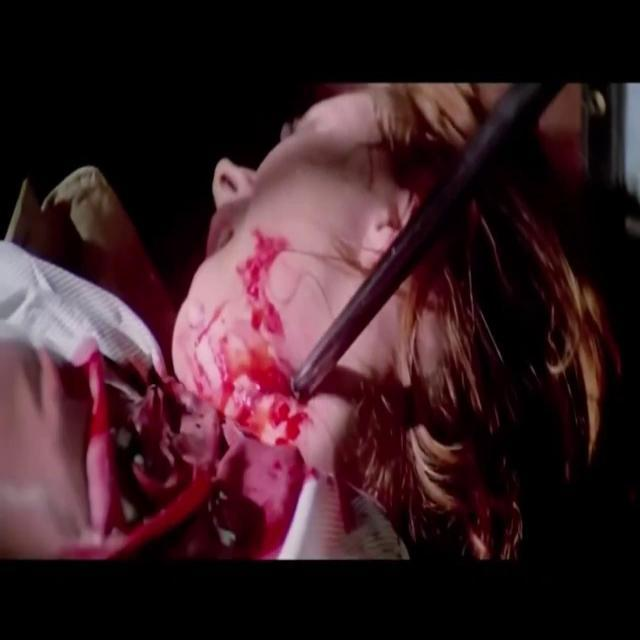flood: (94, 220, 316, 552)
